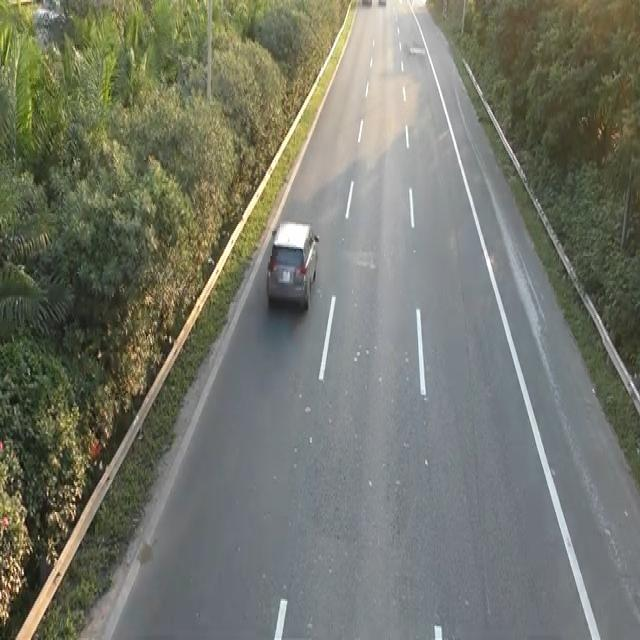car: (264, 217, 320, 313)
